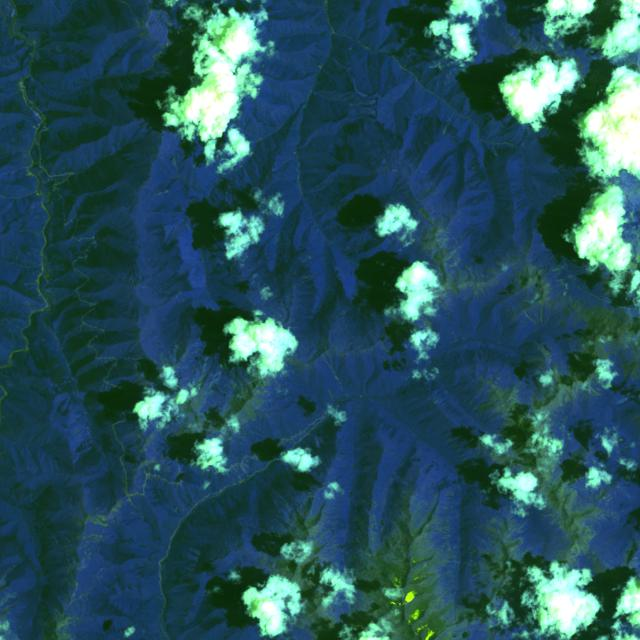landslides: (321, 353, 343, 389), (127, 496, 143, 514), (86, 516, 108, 527), (0, 591, 16, 605), (524, 310, 536, 325), (443, 117, 452, 136), (172, 156, 179, 178), (326, 350, 334, 368), (232, 466, 242, 480), (239, 464, 248, 476)
